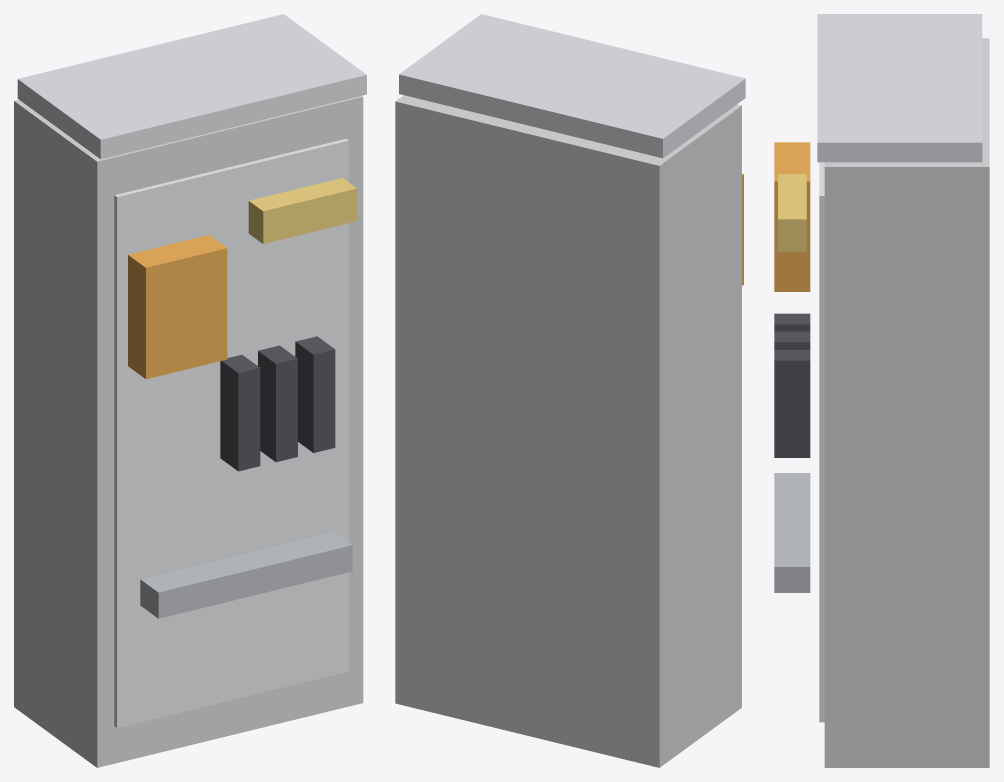
File: schaltschrank.glb
The picture shows the model from 3 angles, left to right: view 1: azimuth 30°, elevation 25°; view 2: azimuth 150°, elevation 25°; view 3: azimuth 270°, elevation 25°; orthographic projection.
Visible parts, largest first — view 1: cabinet, plate, steel, black (×3), sps, term, gold; view 2: cabinet, steel; view 3: cabinet, steel, black (×3), term, sps, plate, gold.
Part boxes in pixels (box(x1,y1,x2,y2)): cabinet: box(14, 96, 363, 767); plate: box(114, 139, 348, 727); steel: box(17, 14, 366, 159); black (×3): box(220, 336, 335, 471); sps: box(128, 235, 227, 379); term: box(140, 532, 352, 618); gold: box(248, 178, 356, 243); cabinet: box(395, 95, 741, 767); steel: box(399, 14, 745, 158); cabinet: box(824, 38, 989, 767); steel: box(817, 14, 982, 162); black (×3): box(774, 313, 810, 457); term: box(774, 473, 810, 592); sps: box(774, 142, 810, 291); plate: box(819, 162, 824, 722); gold: box(778, 174, 806, 251).
Size of the model in its own units: 0.85 by 1.93 by 0.6.
